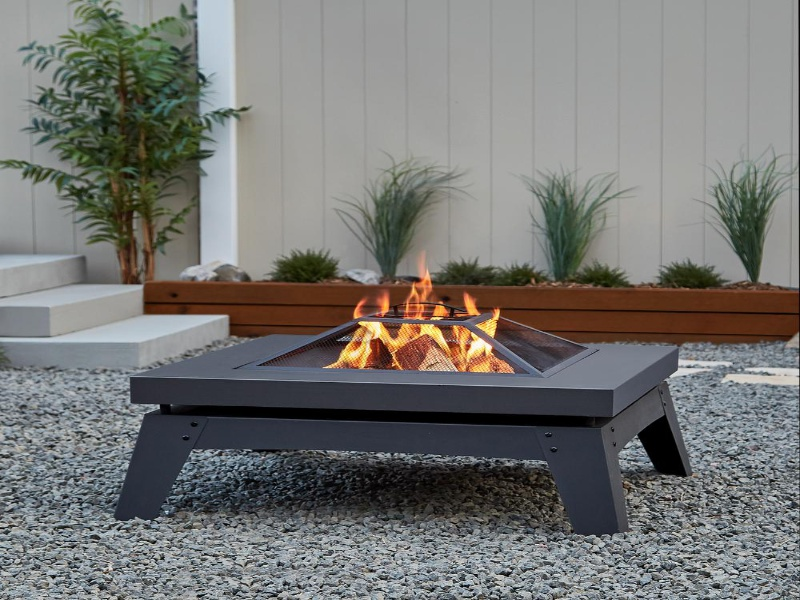fire: (331, 266, 499, 370)
